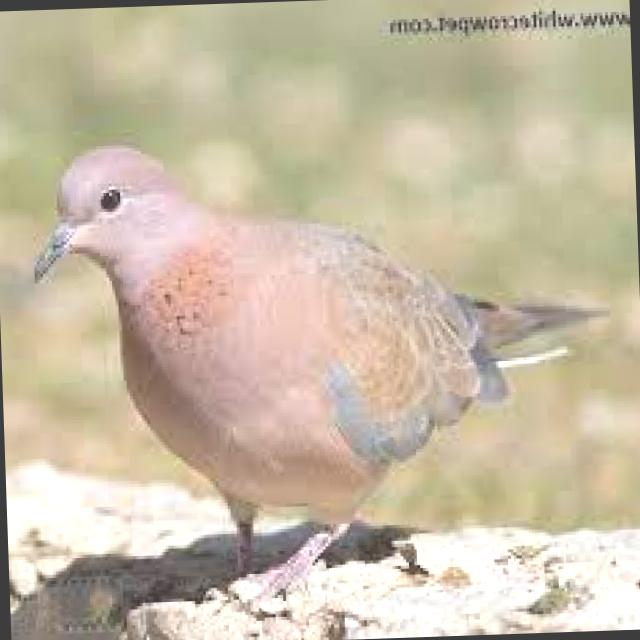bird: (23, 113, 626, 614)
